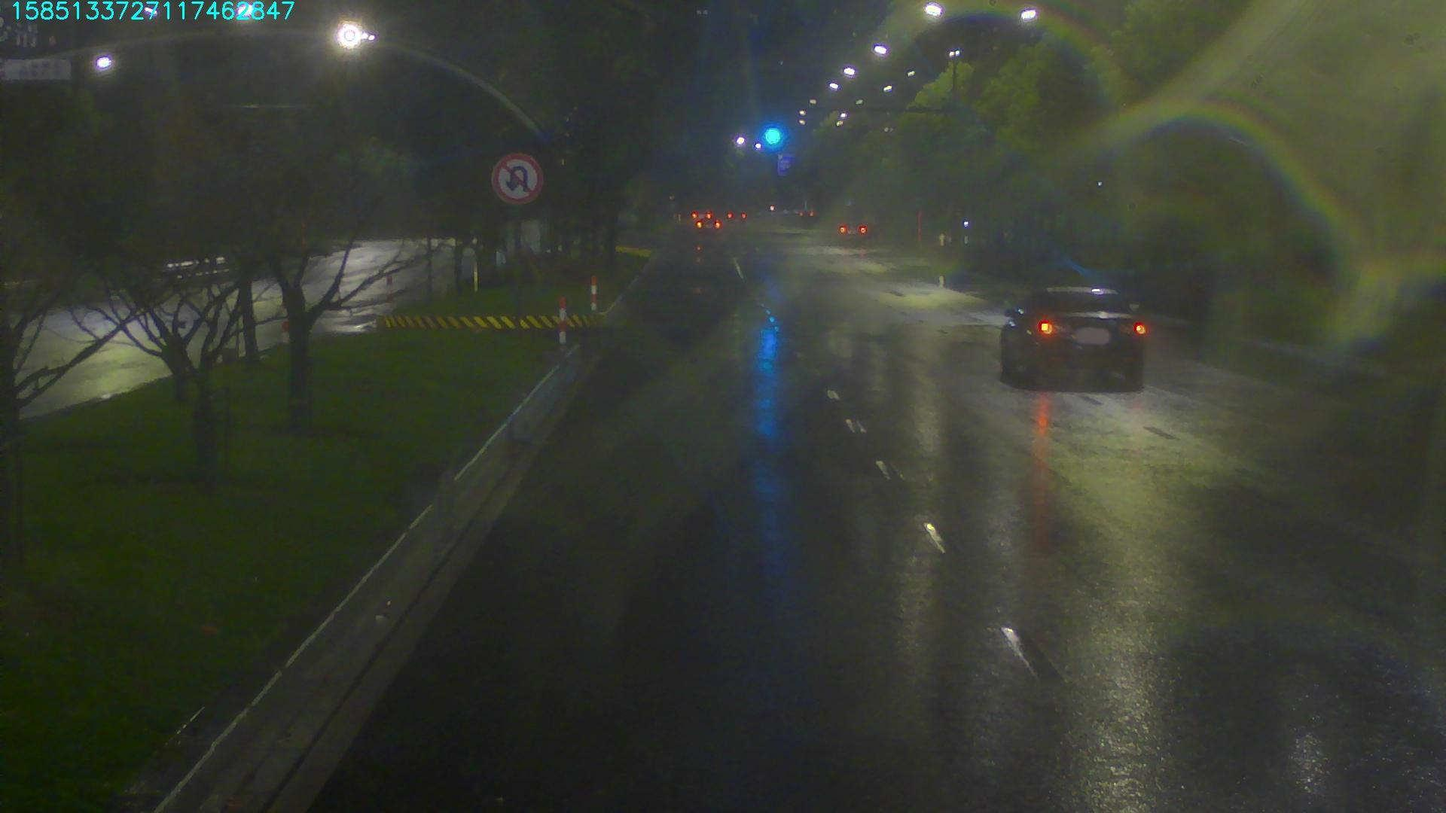green: (759, 123, 789, 148)
